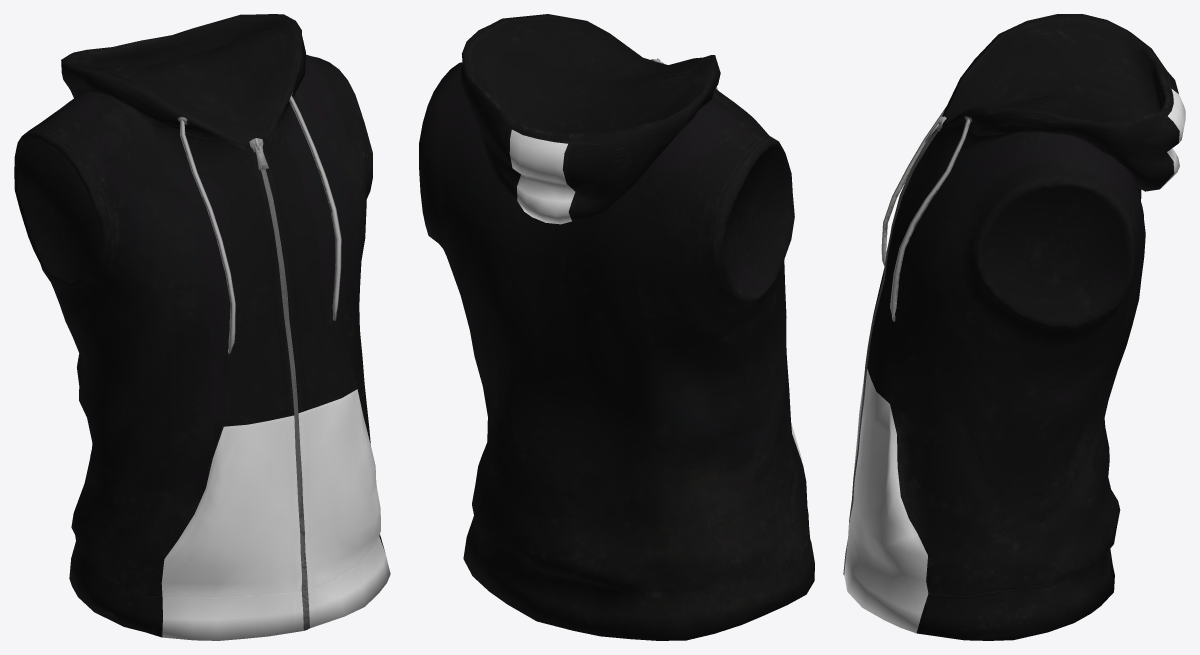
File: SurvivorMale_Chest_Shirt_SleevelessHoodie_Down_LOD0.glb
3 views of the same model, side by side, from view 1: azimuth 30°, elevation 25°; view 2: azimuth 150°, elevation 25°; view 3: azimuth 270°, elevation 25° (orthographic). The views are drawn at different scales.
Visible parts, largest first — view 1: Hoodie; view 2: Hoodie; view 3: Hoodie.
Boxes of the visible parts, bbox=[...] form: Hoodie: bbox=[14, 14, 390, 640]; Hoodie: bbox=[419, 14, 814, 640]; Hoodie: bbox=[843, 14, 1185, 640].
Bounding box in the file's own units: 0.3993 × 0.6612 × 0.3969.
Materials: 1 (1 with a texture image).
